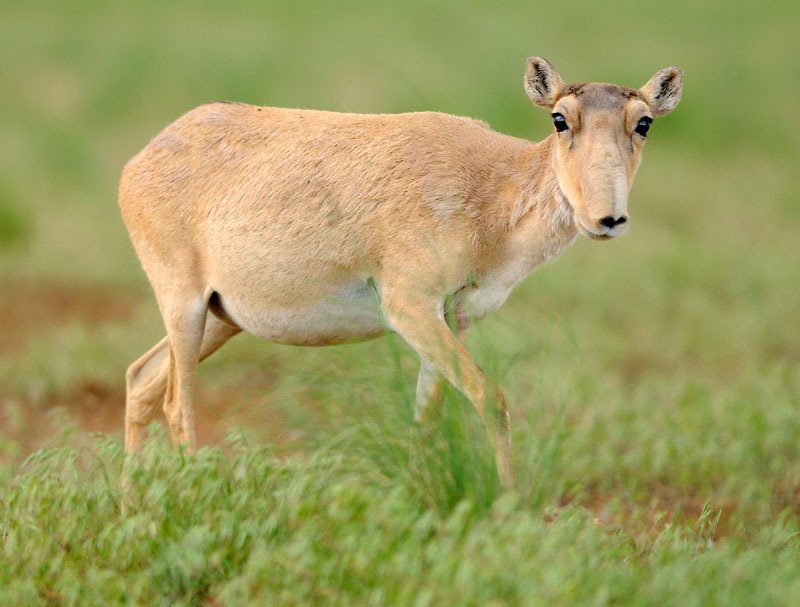saiga: (112, 56, 684, 485)
